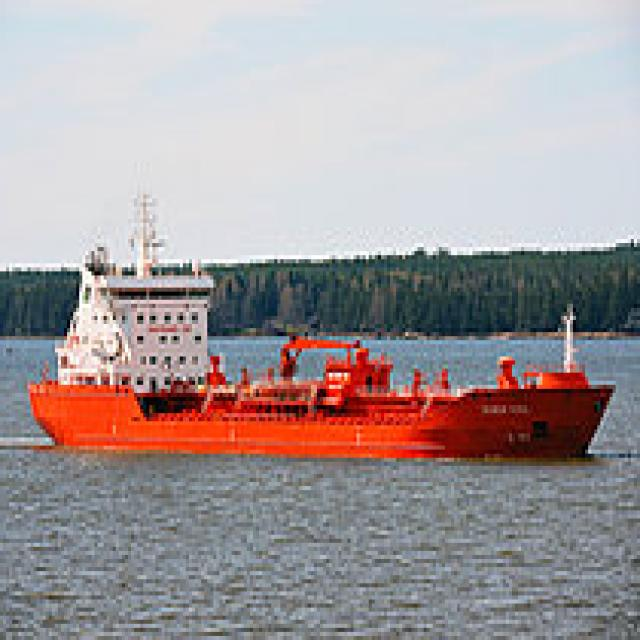Tanker: (27, 182, 622, 462)
